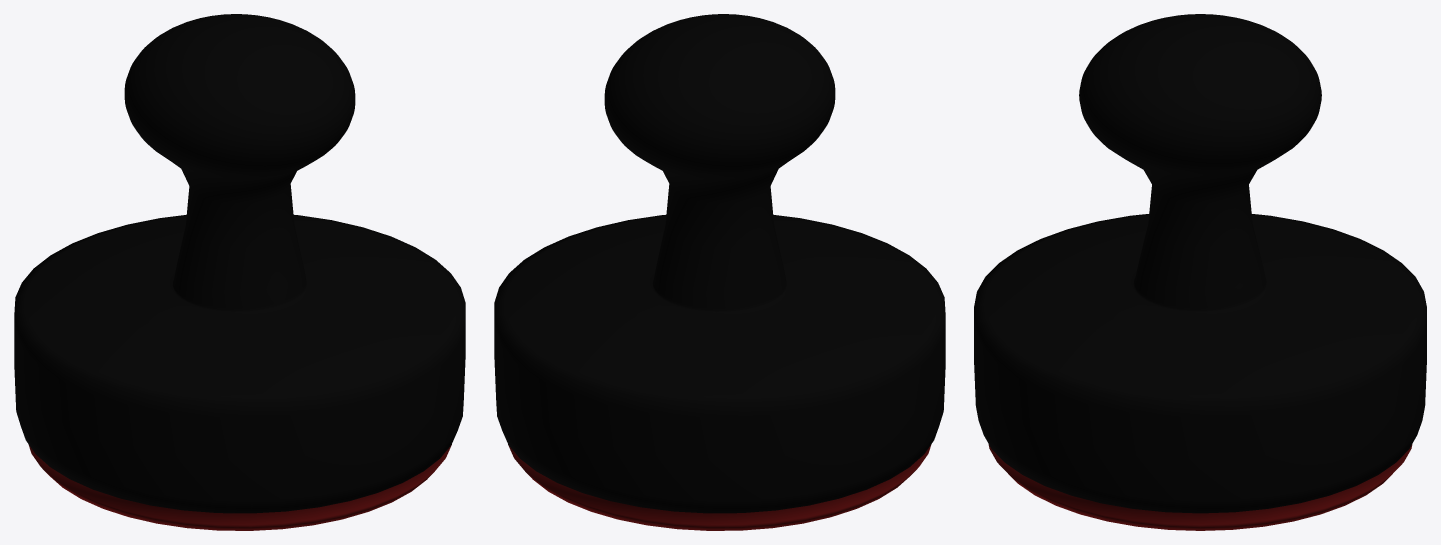
Rendered from stamp.fbx.
The picture shows the model from 3 angles, left to right: view 1: azimuth 30°, elevation 25°; view 2: azimuth 150°, elevation 25°; view 3: azimuth 270°, elevation 25°; orthographic projection.
Parts seen in each view (by area): view 1: pCylinder3; view 2: pCylinder3; view 3: pCylinder3.
Boxes of the visible parts, x1,y1,x2,y2 form: pCylinder3: (14,14,465,530); pCylinder3: (494,14,945,530); pCylinder3: (974,14,1426,530).
Bounding box in the file's own units: 12.01 × 12.23 × 12.01.
